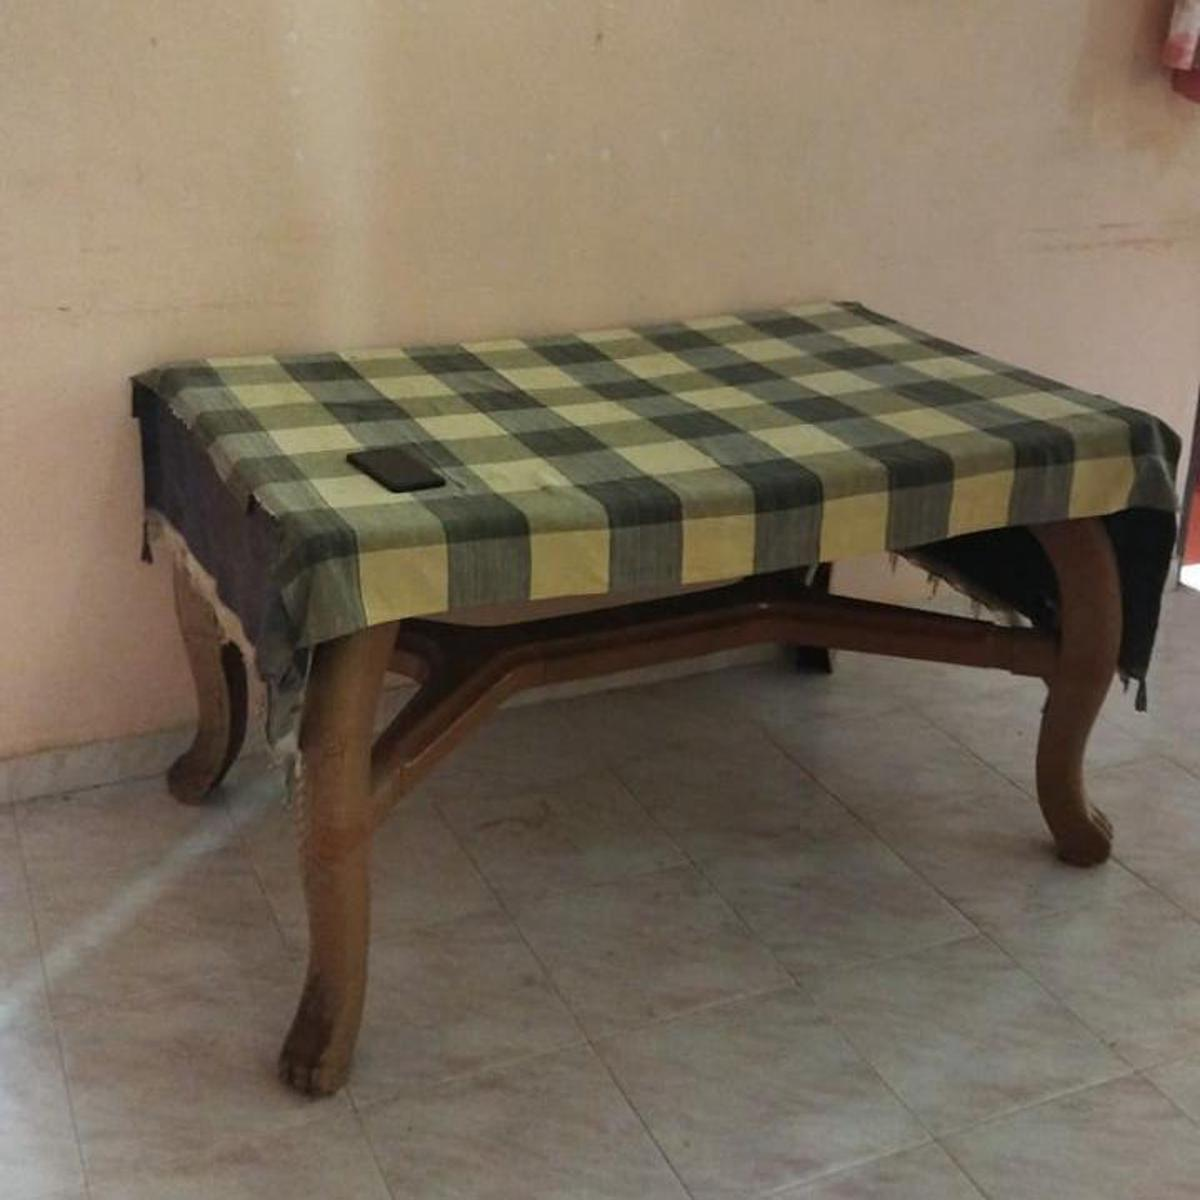Table: (104, 261, 1173, 1113)
